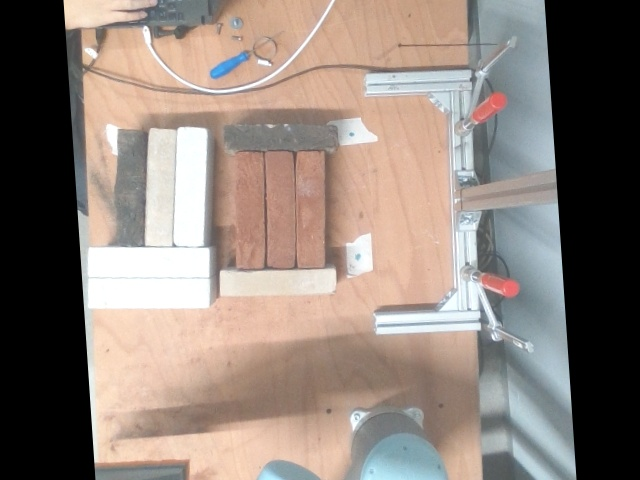brick-side: (173, 127, 206, 247), (293, 152, 325, 265), (88, 277, 208, 307), (145, 127, 175, 247), (217, 266, 333, 297), (88, 248, 208, 277), (116, 128, 146, 243), (221, 123, 337, 152), (264, 153, 293, 266), (236, 152, 264, 266)
